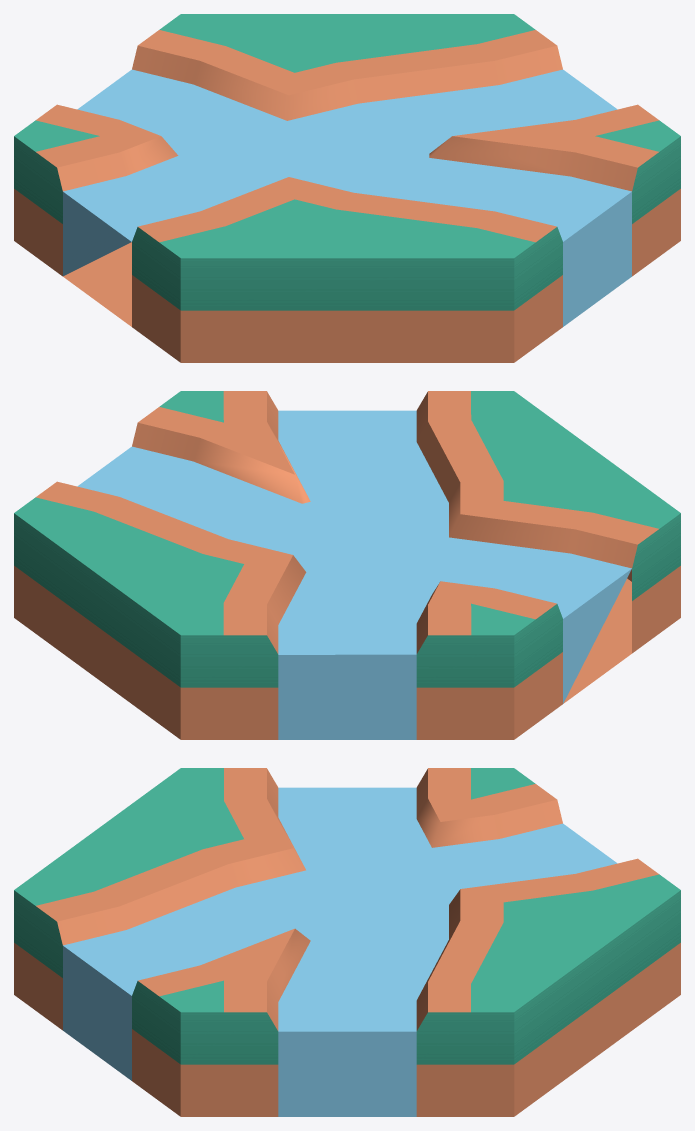
File: river-intersectionE.glb
The picture shows the model from 3 angles, top to bottom: view 1: azimuth 30°, elevation 25°; view 2: azimuth 150°, elevation 25°; view 3: azimuth 270°, elevation 25°; orthographic projection.
Parts seen in each view (by area): view 1: river-intersectionE; view 2: river-intersectionE; view 3: river-intersectionE.
Boxes of the visible parts, <box> form: river-intersectionE: <box>14,14,680,362</box>; river-intersectionE: <box>14,391,680,739</box>; river-intersectionE: <box>14,768,680,1116</box>.
Bounding box in the file's own units: 1 × 0.2 × 1.15.
Materials: 1 (1 with a texture image).
